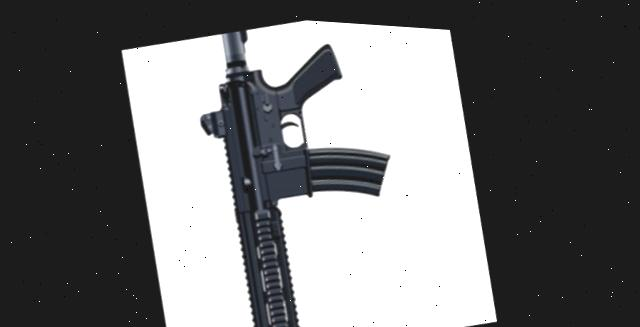rifle: (167, 10, 440, 327)
